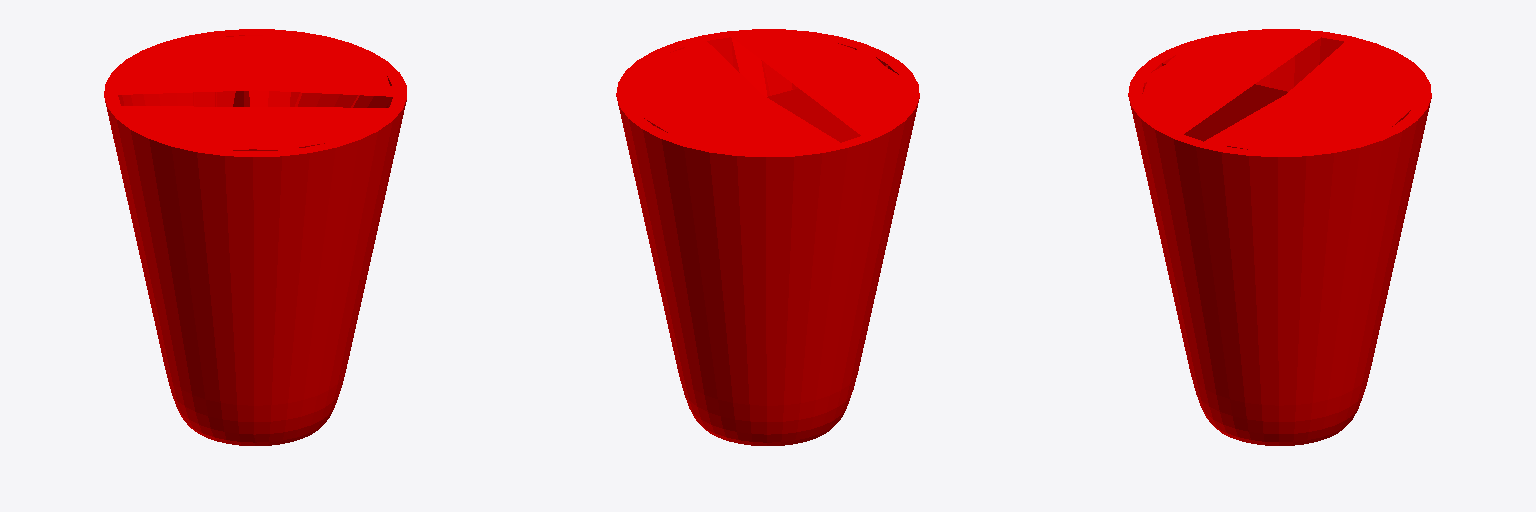
The model's file is Mugs.obj.
3 renders of one model, left to right at view 1: azimuth 30°, elevation 25°; view 2: azimuth 150°, elevation 25°; view 3: azimuth 270°, elevation 25°, orthographic.
Parts seen in each view (by area): view 1: Cylinder001, Cylinder002; view 2: Cylinder001, Cylinder002; view 3: Cylinder001, Cylinder002.
Part boxes in pixels (x1,y1,x2,y2): Cylinder001: (104, 29, 406, 445); Cylinder002: (118, 35, 392, 445); Cylinder001: (616, 29, 919, 445); Cylinder002: (630, 35, 905, 445); Cylinder001: (1128, 29, 1431, 445); Cylinder002: (1142, 35, 1417, 150).
Size of the model in its own units: 765875 by 906646 by 766165.